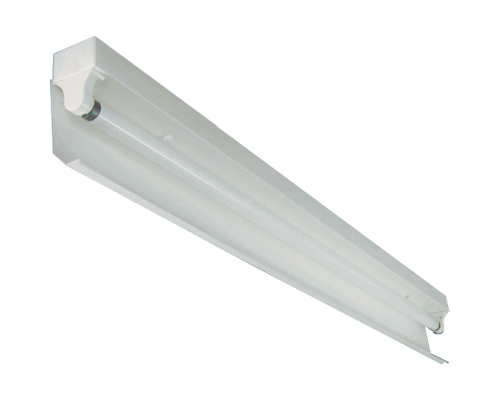Light_bulb: (74, 95, 443, 338)
